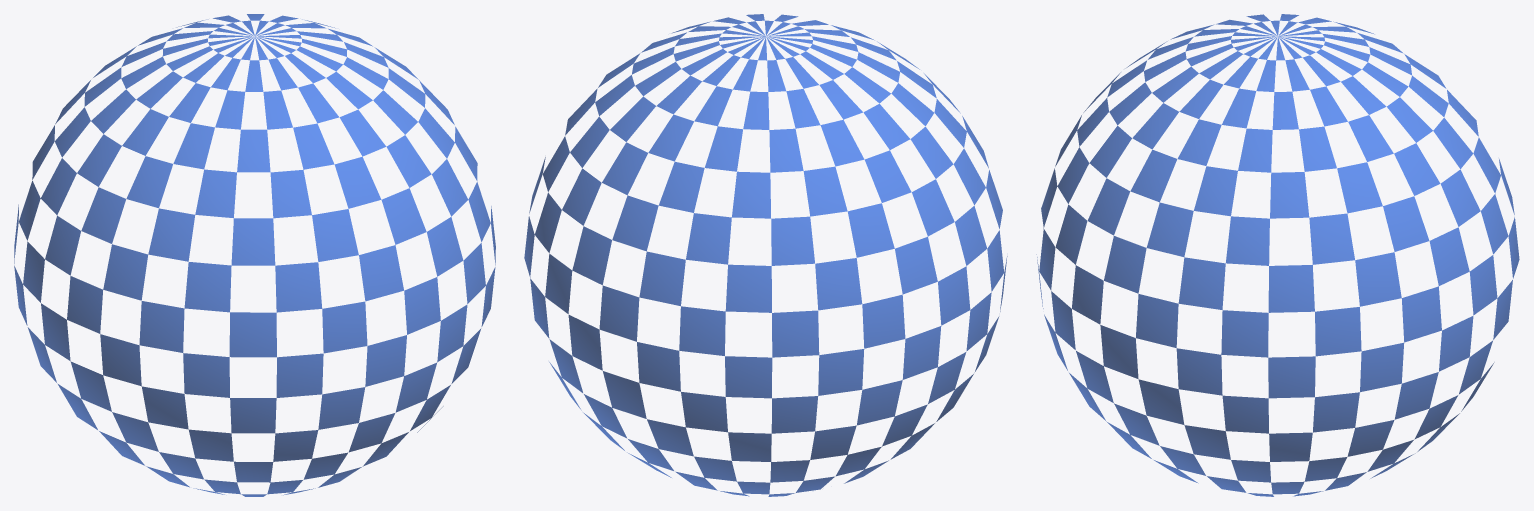
File: orb_c2.glb
3 renders of one model, left to right at view 1: azimuth 30°, elevation 25°; view 2: azimuth 150°, elevation 25°; view 3: azimuth 270°, elevation 25°, orthographic.
Visible parts, largest first — view 1: orb1_2; view 2: orb1_2; view 3: orb1_2.
Part boxes in pixels (x1=…): orb1_2: x1=14, y1=14, x2=495, y2=496; orb1_2: x1=524, y1=14, x2=1007, y2=496; orb1_2: x1=1036, y1=14, x2=1519, y2=496.
Bounding box in the file's own units: 0.9992 × 1 × 0.9992.
